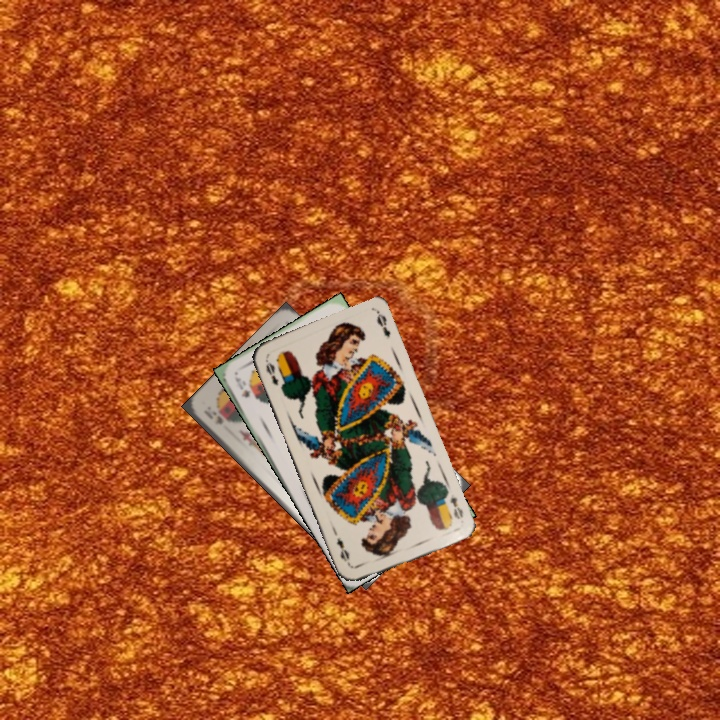EO: (261, 355, 281, 388), (446, 490, 466, 522)
SK: (199, 406, 226, 427)
SO: (231, 373, 253, 400)
